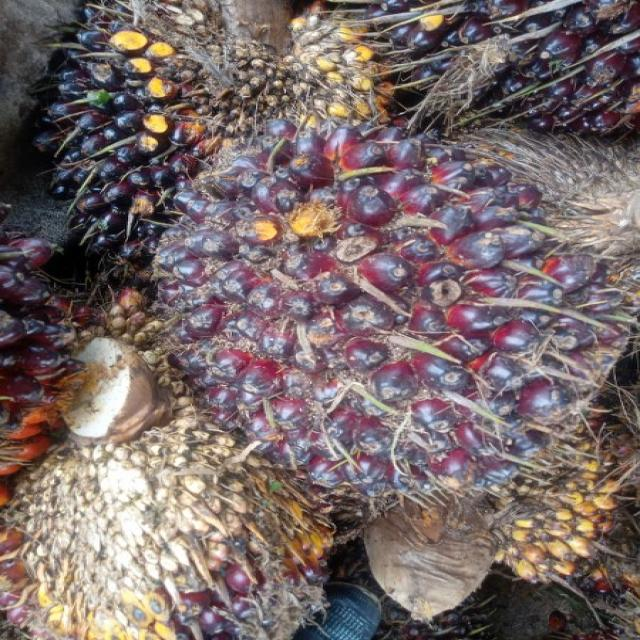fraksi 1: (105, 74, 640, 554)
